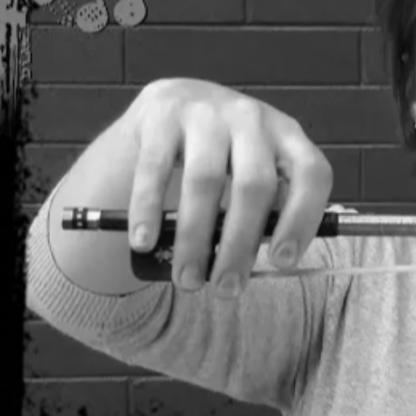good: (116, 61, 334, 298)
